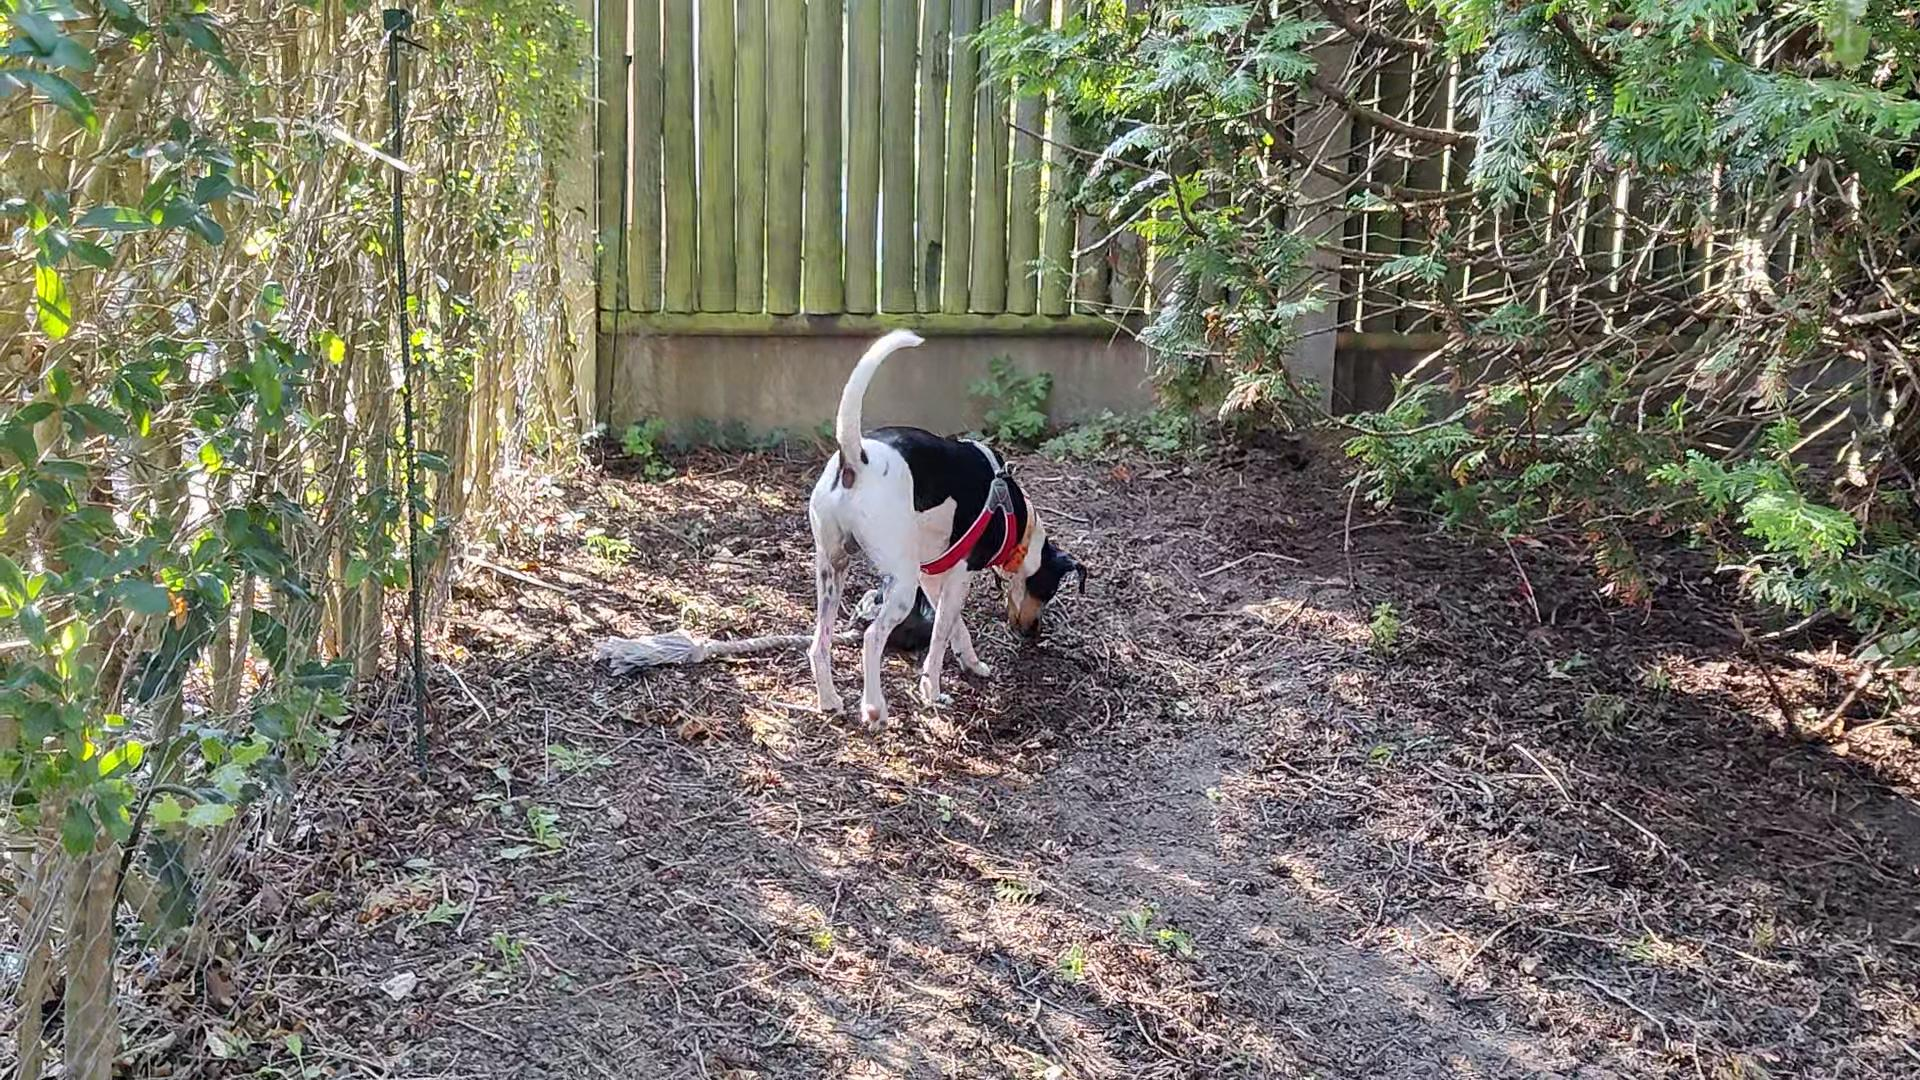Dog: (783, 309, 1098, 750)
